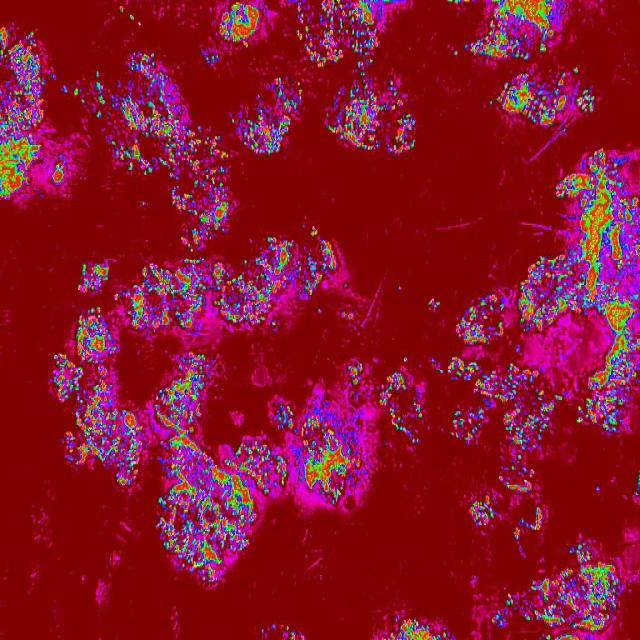fire: (154, 435, 258, 583), (106, 50, 198, 174), (67, 305, 117, 469), (147, 256, 252, 332), (568, 201, 640, 311), (576, 312, 640, 433), (252, 238, 338, 326), (0, 23, 43, 196), (294, 410, 366, 505), (532, 564, 622, 640), (328, 81, 417, 157), (291, 0, 389, 68), (235, 76, 306, 156), (152, 352, 211, 436), (548, 146, 630, 203), (168, 173, 230, 247), (491, 0, 562, 60), (519, 252, 569, 331), (493, 72, 565, 126), (454, 294, 507, 346), (475, 363, 544, 402), (504, 401, 556, 450), (220, 2, 264, 48), (385, 611, 448, 640), (256, 440, 288, 495), (196, 126, 228, 172), (448, 405, 483, 446), (119, 408, 142, 468), (77, 263, 111, 295), (379, 374, 409, 410), (468, 494, 497, 528), (504, 465, 538, 494), (48, 353, 68, 402), (130, 268, 146, 328), (444, 358, 477, 381), (270, 402, 296, 430), (462, 32, 490, 56), (570, 538, 593, 566), (574, 87, 595, 114), (388, 413, 412, 435), (528, 505, 546, 534), (347, 362, 366, 386), (95, 70, 104, 120), (487, 610, 508, 630), (51, 161, 67, 187), (114, 467, 134, 487), (341, 308, 357, 324), (286, 627, 305, 640), (426, 296, 440, 310), (414, 403, 424, 421), (512, 526, 522, 544), (502, 592, 516, 604), (114, 290, 130, 300), (206, 54, 220, 64), (310, 224, 320, 238), (522, 610, 532, 624), (446, 0, 472, 5), (47, 70, 56, 84), (636, 471, 640, 497), (138, 199, 148, 209), (593, 484, 602, 495), (552, 394, 566, 401), (118, 4, 126, 16), (128, 12, 137, 22), (401, 354, 410, 364), (358, 68, 366, 78), (452, 50, 460, 59), (412, 436, 419, 446), (516, 452, 523, 462), (62, 84, 68, 94), (72, 89, 80, 96), (572, 66, 578, 75), (80, 98, 86, 106), (260, 628, 266, 636), (488, 100, 493, 108), (396, 284, 402, 290), (439, 369, 444, 376), (344, 282, 349, 289), (230, 119, 234, 125)
